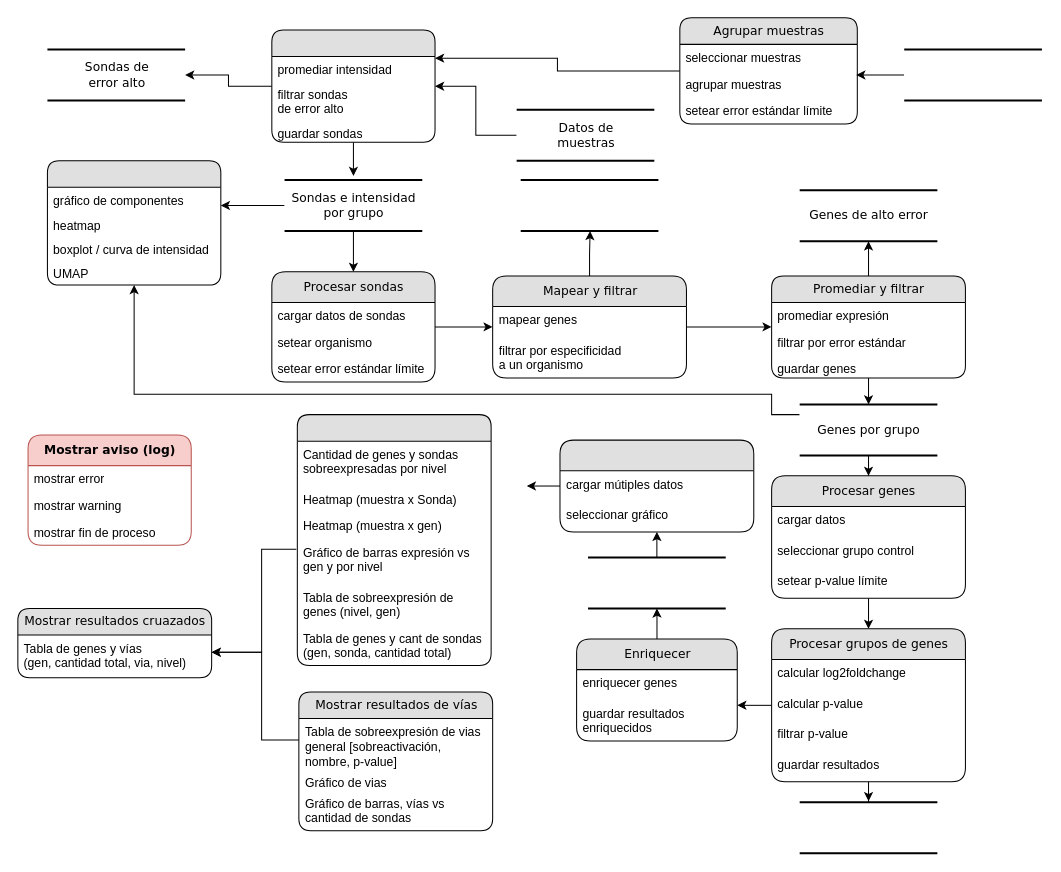
This 1061x872 diagram has some shape labels left out. The shapes that lost their labels are listed below. From the top down, each one's box as (x1, y1, x2, y2) in pixels, then its label:
(271, 29, 435, 142): Procesar muestras
(903, 48, 1042, 101): Metadatos de muestras
(46, 160, 221, 285): Controlar calidad
(519, 178, 659, 232): Sondas inespecíficas
(559, 439, 754, 532): Análisis y metanálisis de resultados
(296, 414, 491, 666): Mostrar resultados expresión
(586, 556, 726, 609): Genes expresados diferencialmente enriquecidos
(798, 801, 938, 854): Genes no expresados diferencialmente
